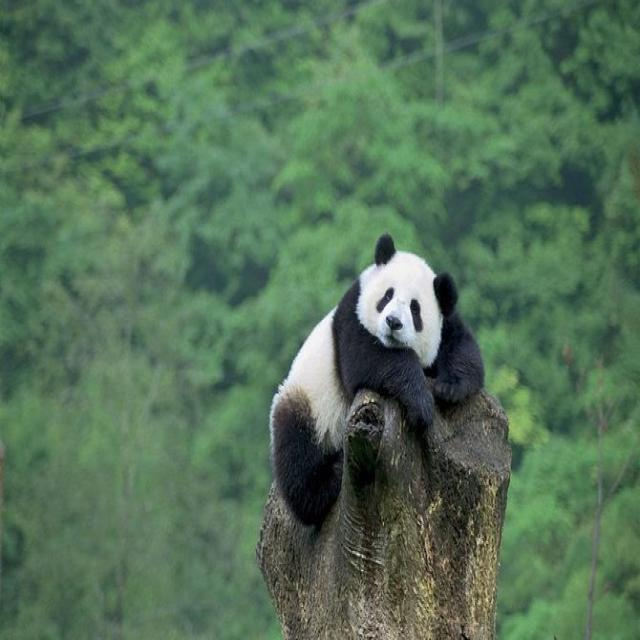Panda: (258, 230, 494, 532)
